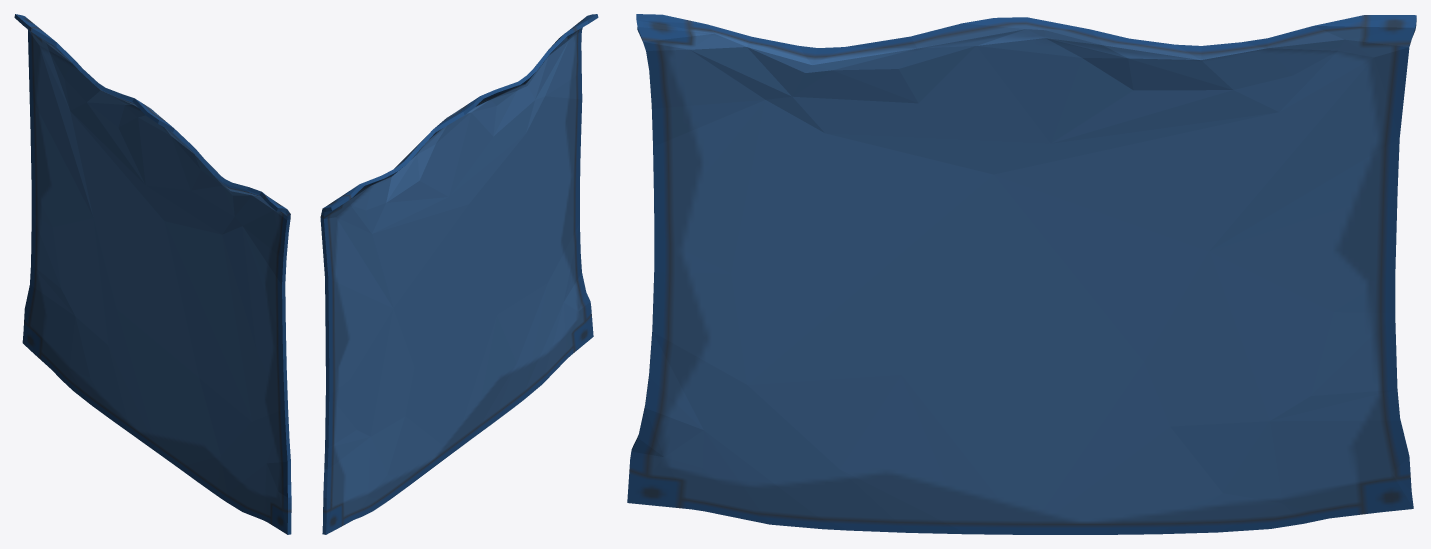
Rendered from SM_Prop_Scaffold_Stackable_01_Tarp_2.glb.
3 views of the same model, side by side, from view 1: azimuth 30°, elevation 25°; view 2: azimuth 150°, elevation 25°; view 3: azimuth 270°, elevation 25° (orthographic). The views are drawn at different scales.
Parts seen in each view (by area): view 1: SM_Prop_Scaffold_Stackable_01_Tarp_2; view 2: SM_Prop_Scaffold_Stackable_01_Tarp_2; view 3: SM_Prop_Scaffold_Stackable_01_Tarp_2.
Part boxes in pixels (box(x1,y1,x2,y2)): SM_Prop_Scaffold_Stackable_01_Tarp_2: box(14, 14, 291, 534); SM_Prop_Scaffold_Stackable_01_Tarp_2: box(320, 14, 598, 534); SM_Prop_Scaffold_Stackable_01_Tarp_2: box(627, 14, 1416, 534).
Size of the model in its own units: 0.1327 by 2.43 by 3.4.
1 material, 1 textured.
